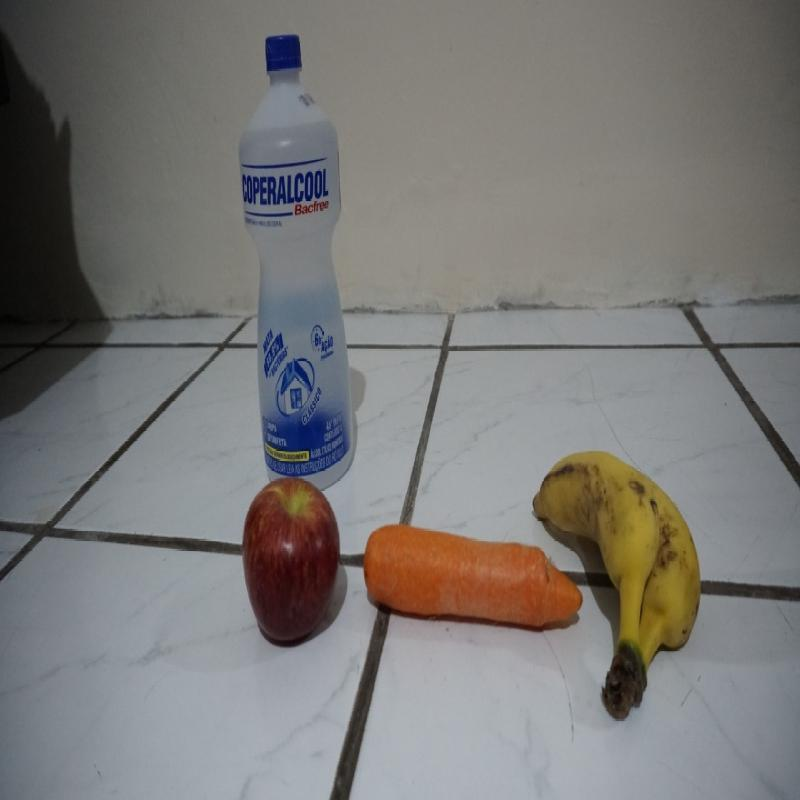Alcohol Bottle: (238, 34, 366, 478)
Apple: (235, 481, 345, 649)
Banana: (580, 429, 714, 734)
Carrot: (359, 519, 578, 667)
